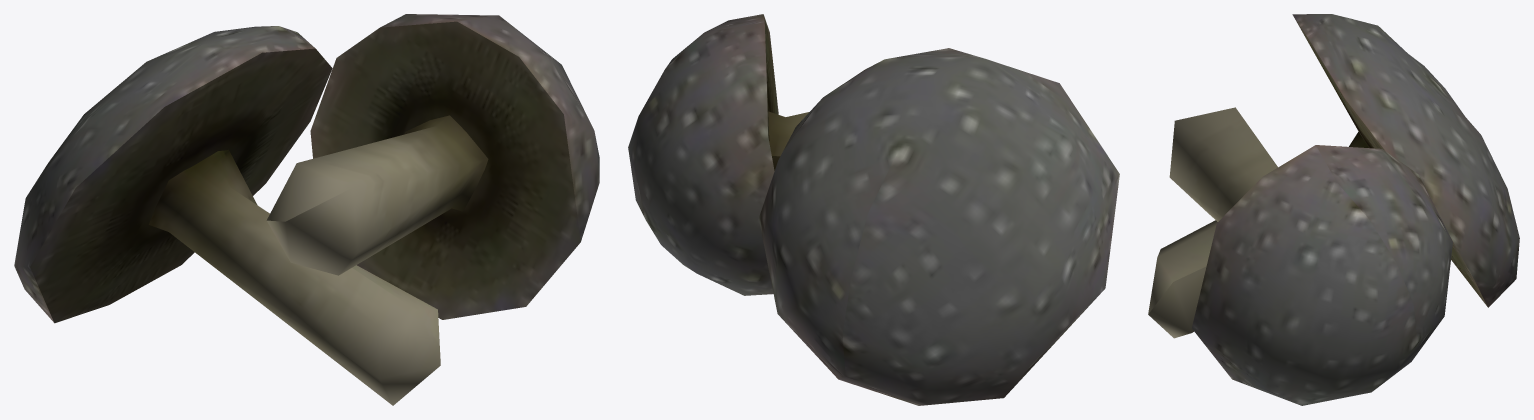
Rendered from mushroom_a.worldmodel.glb.
3 views of the same model, side by side, from view 1: azimuth 30°, elevation 25°; view 2: azimuth 150°, elevation 25°; view 3: azimuth 270°, elevation 25° (orthographic). The views are drawn at different scales.
Visible parts, largest first — view 1: mushroom_a.worldmodel; view 2: mushroom_a.worldmodel; view 3: mushroom_a.worldmodel.
Boxes of the visible parts, left/top/right/bottom form: mushroom_a.worldmodel: left=14, top=14, right=599, bottom=405; mushroom_a.worldmodel: left=628, top=14, right=1119, bottom=405; mushroom_a.worldmodel: left=1148, top=14, right=1519, bottom=405.
Bounding box in the file's own units: 0.5349 × 0.3127 × 0.376.
1 material, 1 textured.
